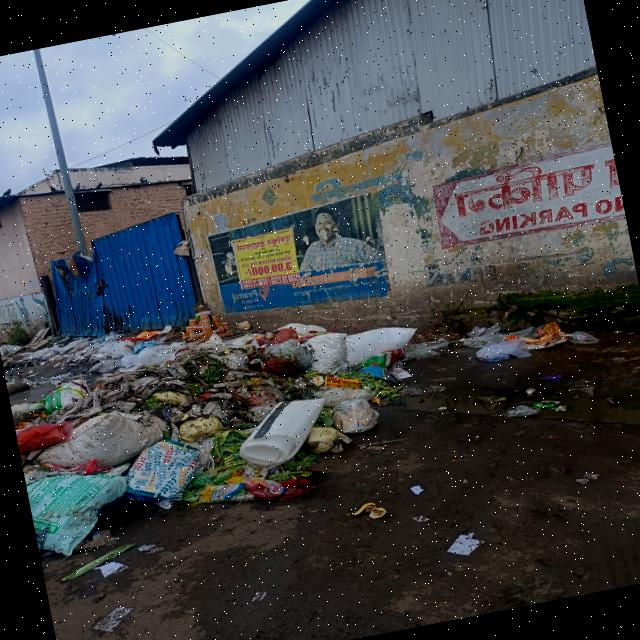garbage: (0, 276, 431, 558), (424, 306, 590, 382)
